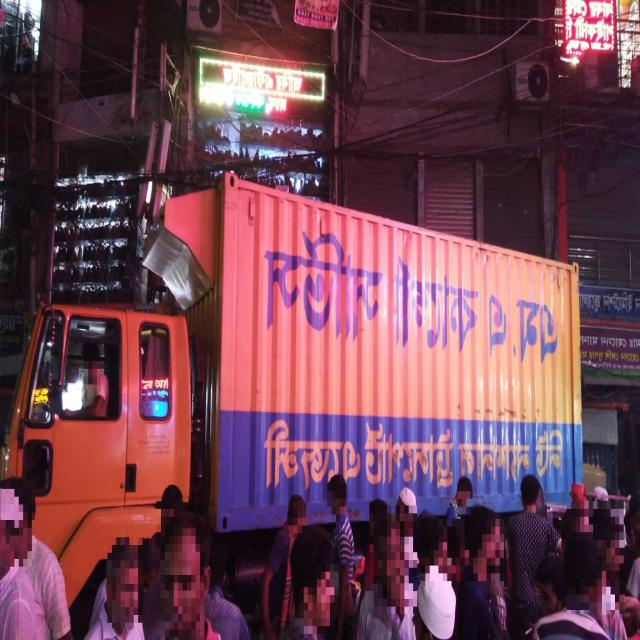truck: (3, 138, 599, 622)
